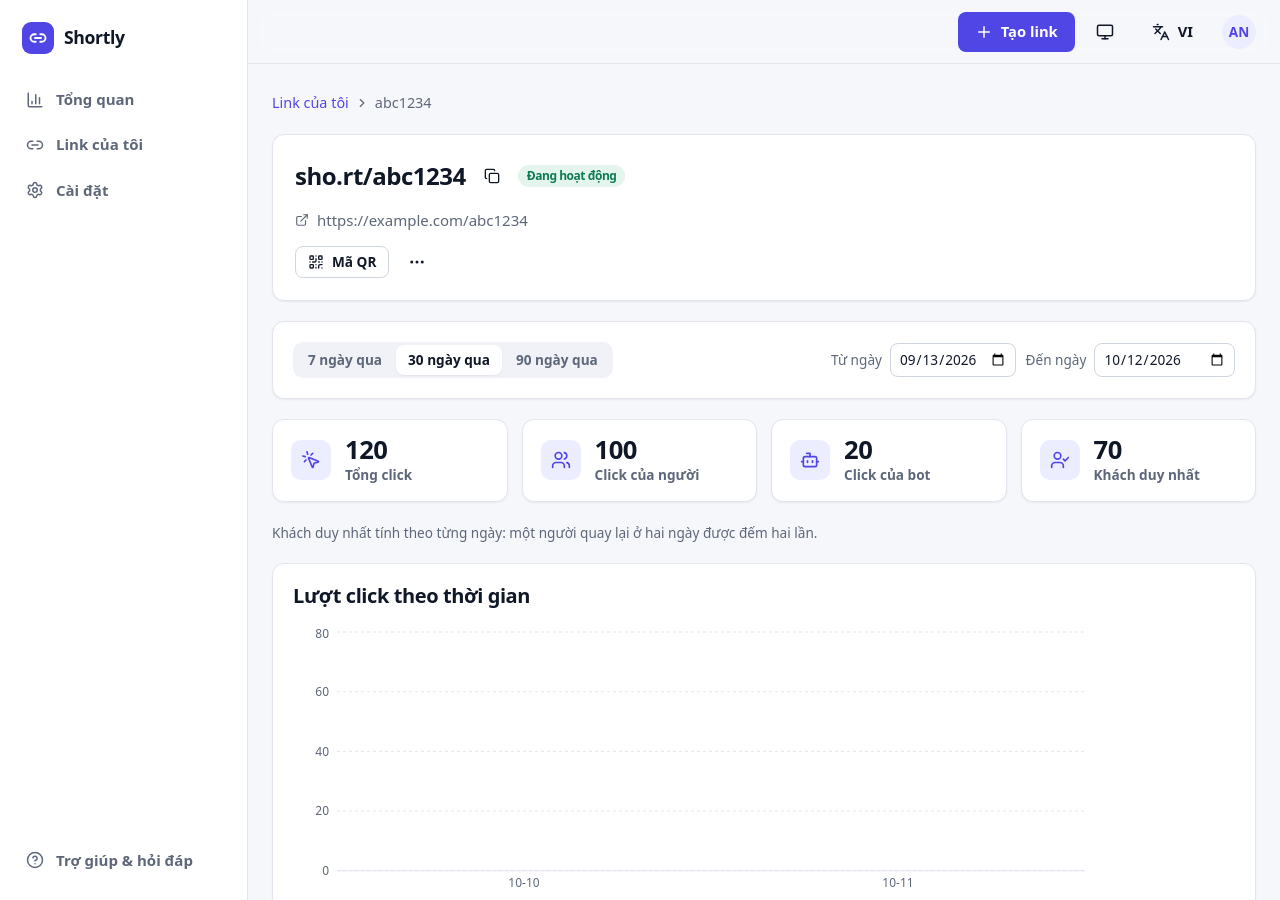
Scenario: thao tác ngay trên trang chi tiết › sửa đích cập nhật phần đầu trang ngay lập tức
Expected: the link "sho.rt/abc1234" is shown, [295,157,466,194]
Step 1. Click the button named "Thêm thao tác" → (417, 262), box [401,246,433,278]
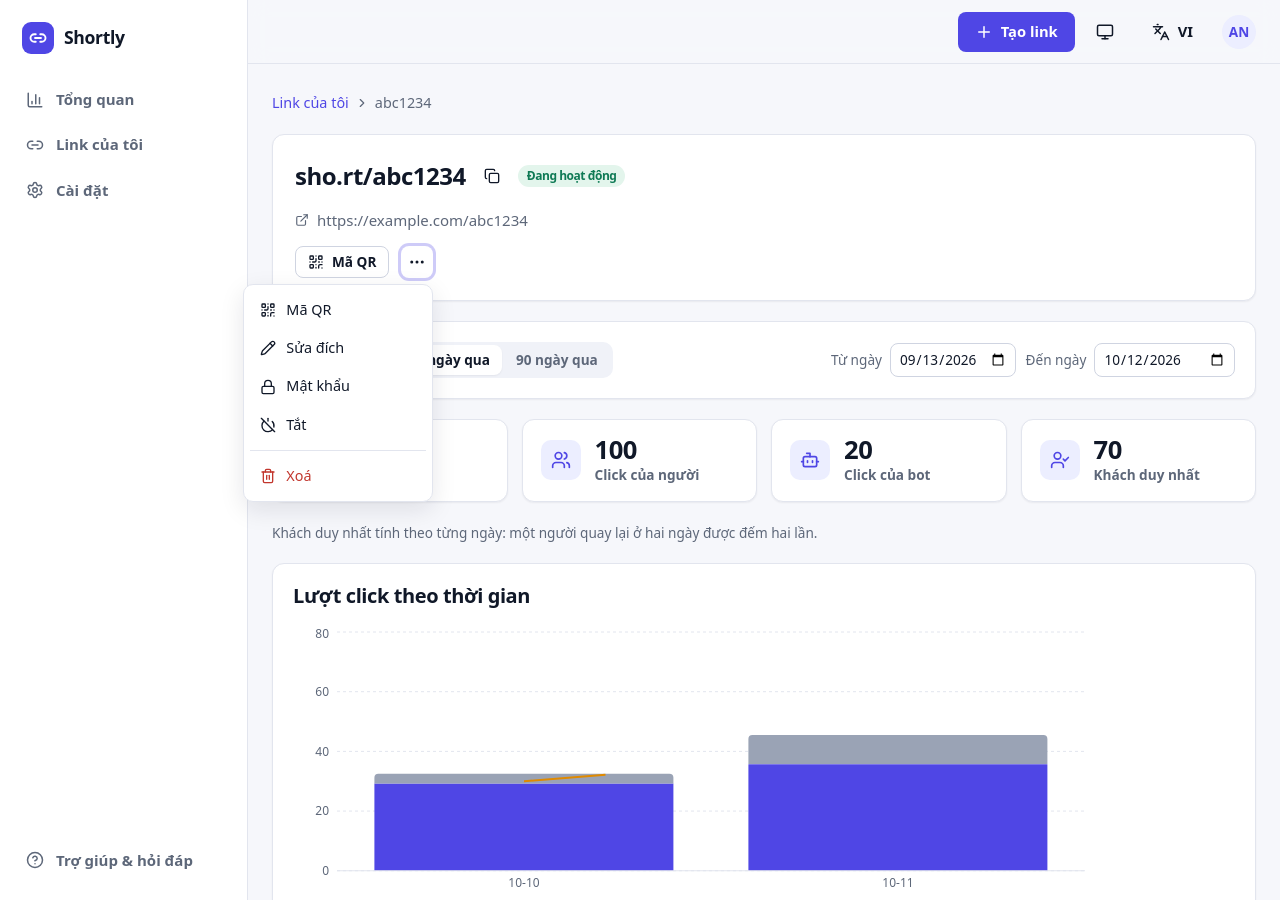
Step 2. Click the menu item "Sửa đích" → (338, 348), box [250,329,426,367]
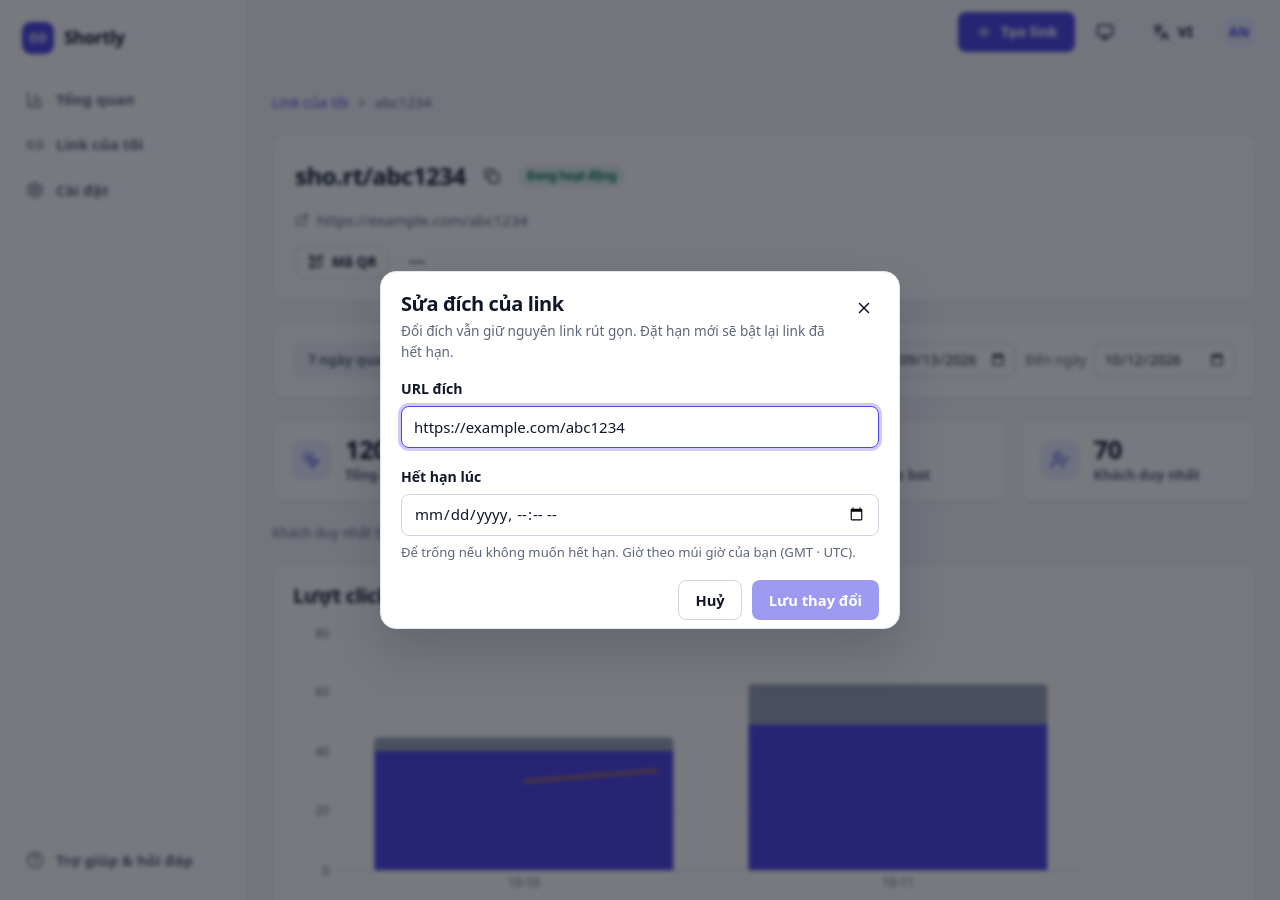
Step 3. Replace the text in the field labelled "URL đích" with "https://new.example.com/page" → (640, 427), box [401,406,879,448]
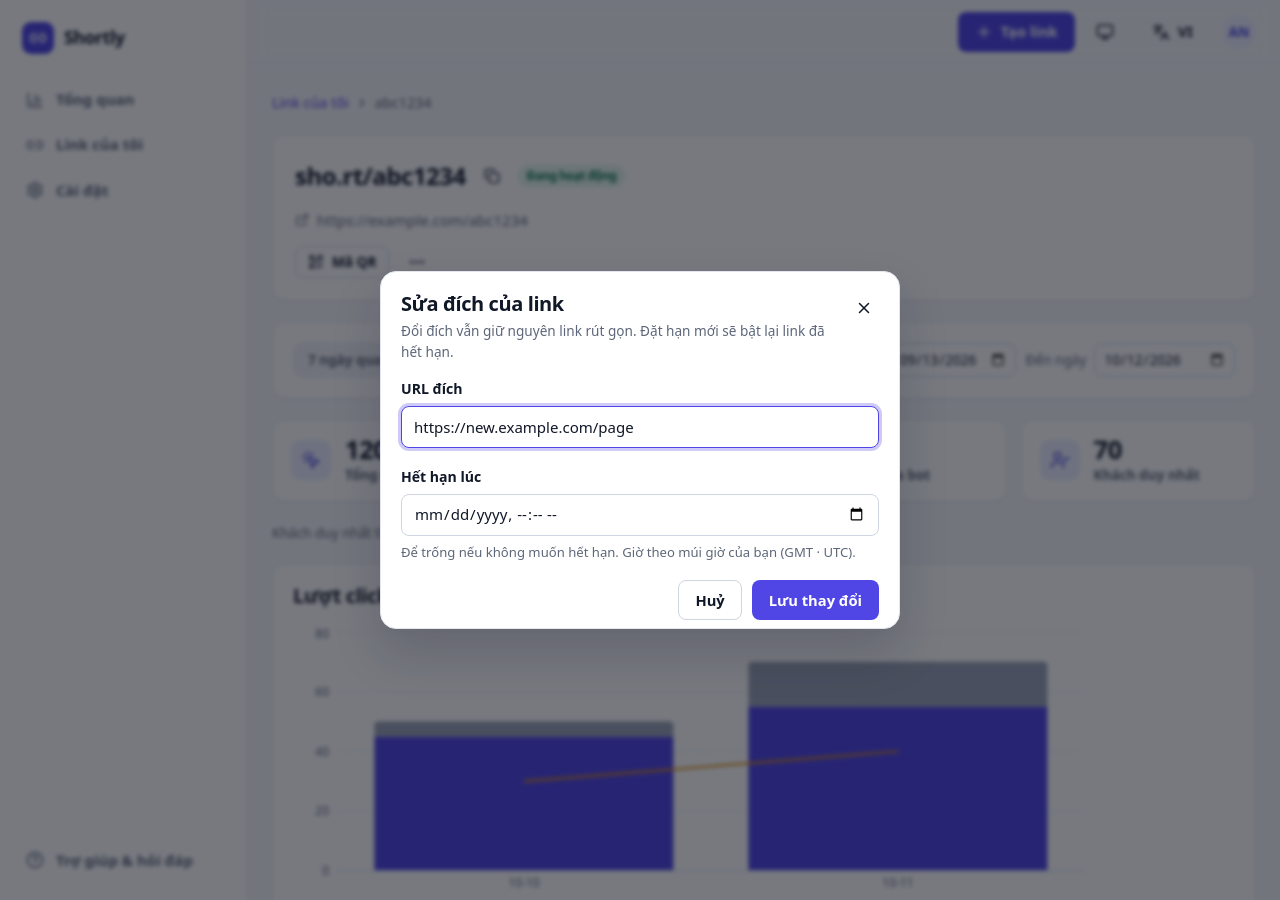
Step 4. Click the button "Lưu thay đổi" → (815, 600), box [752,580,879,620]
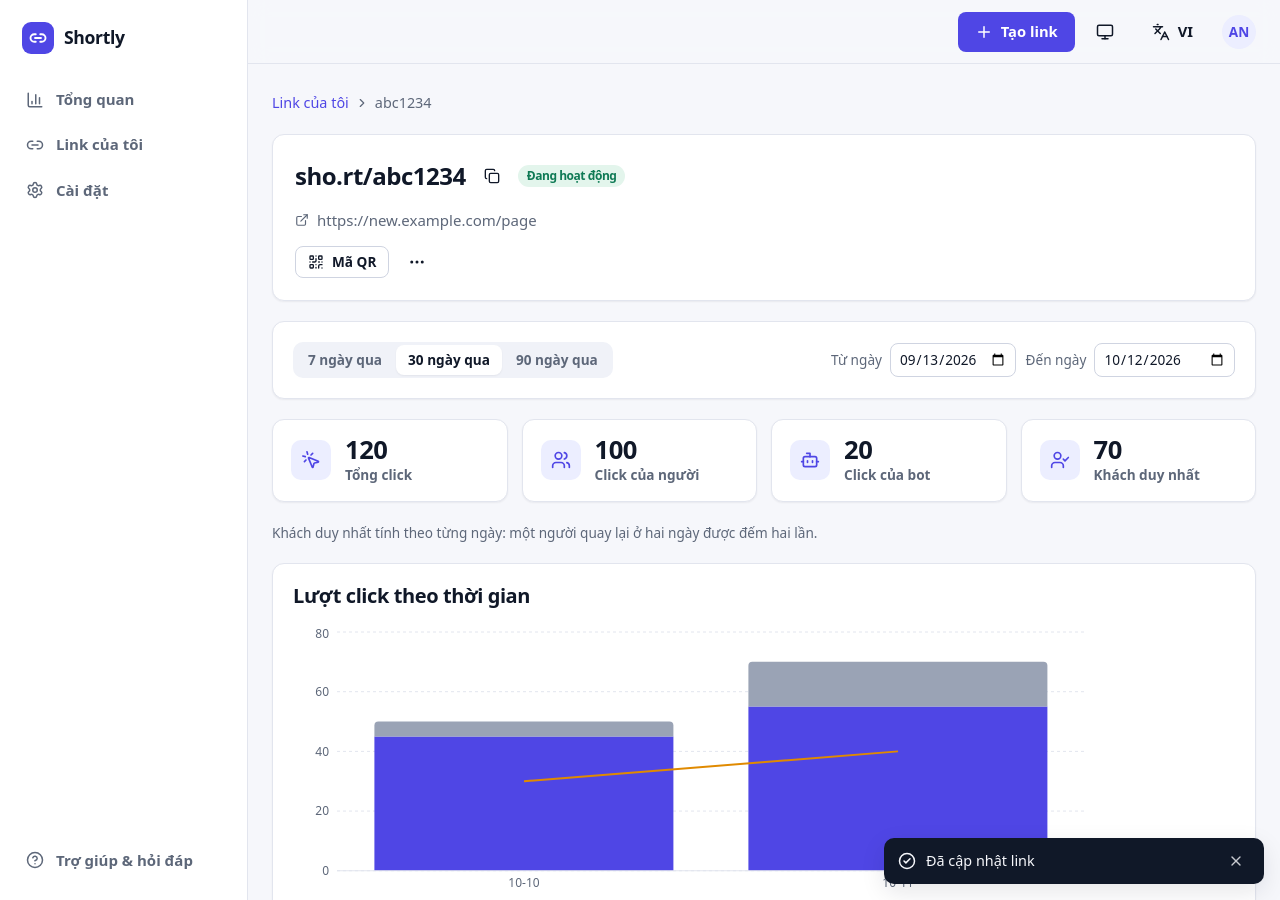
Expected: the text "https://new.example.com/page" is shown, [295,210,537,230]
